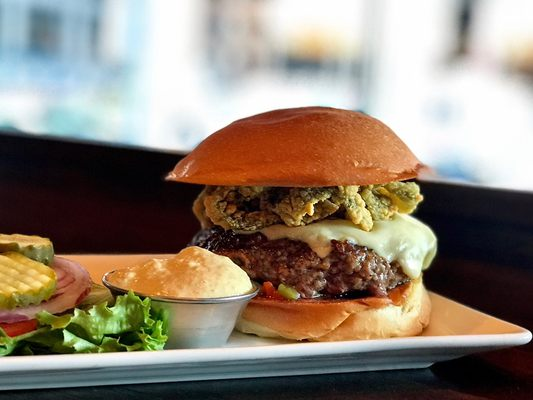soup: (165, 106, 439, 344), (0, 232, 92, 355)
sushi: (102, 246, 261, 349)
